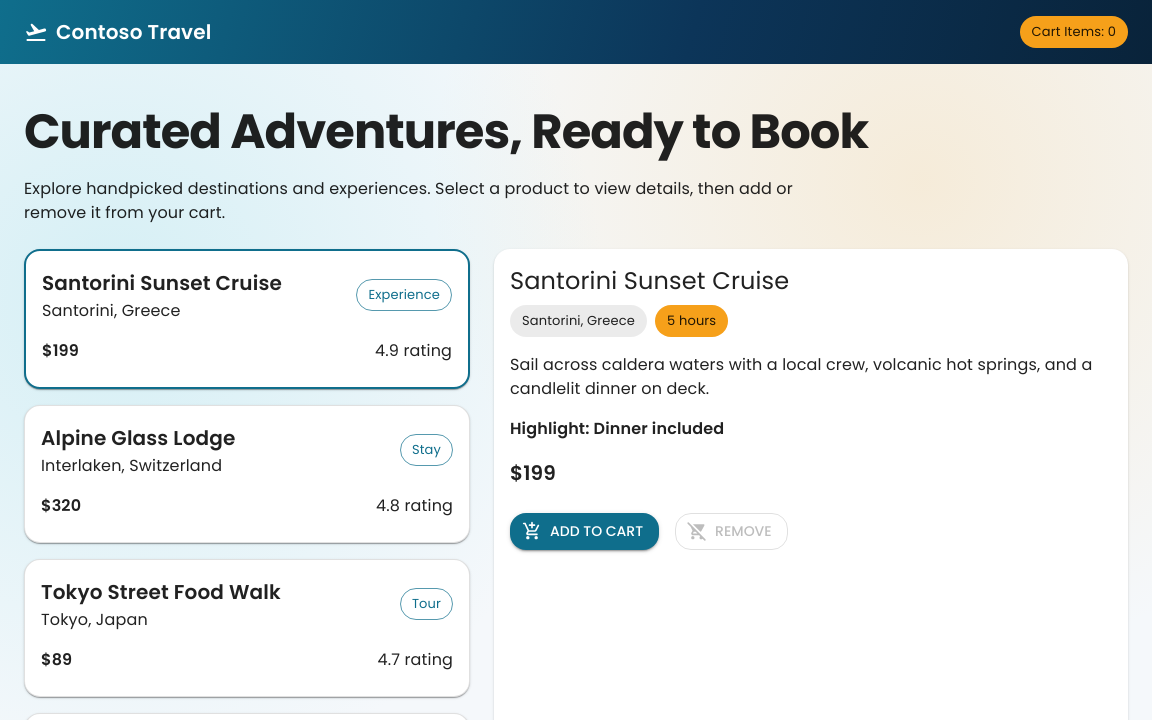
Contoso Travel app › adds selected items to the cart and updates total
The image size is (1152, 720).
Click the button "Add to Cart" at (585, 531), box [510,513,659,550]
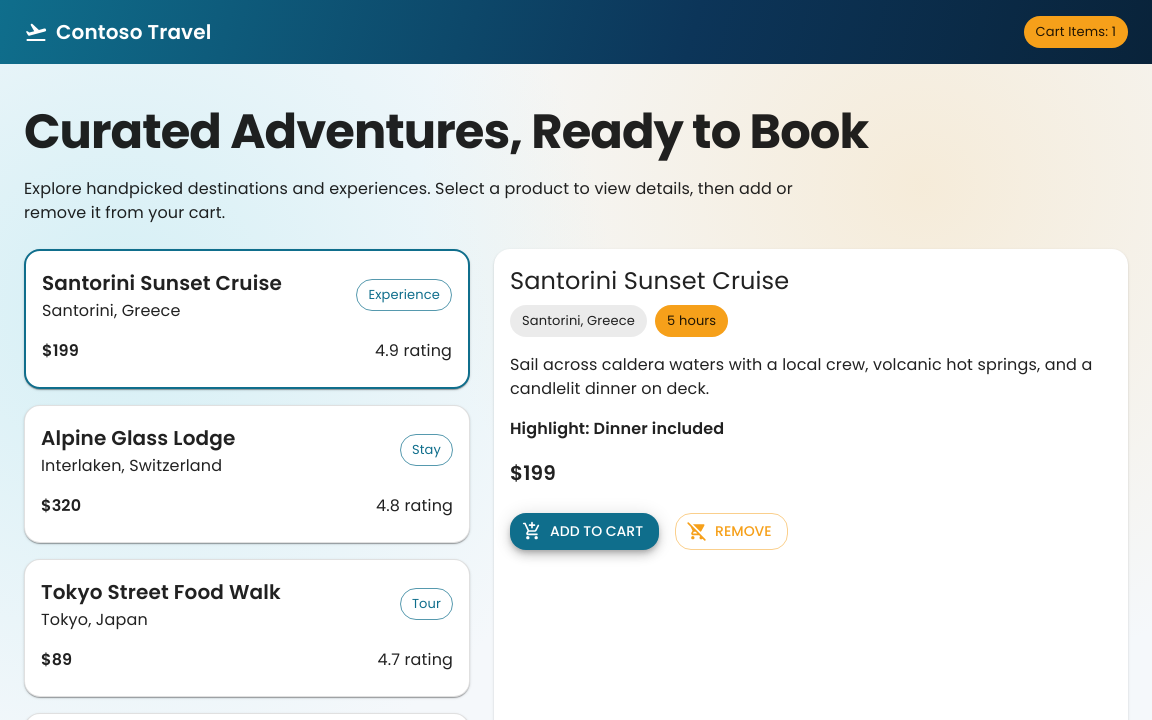
Check: the text "Cart Items: 1" is shown, box [1036,22,1116,41]
Click the heading "Tokyo Street Food Walk" at (161, 592), box [41,576,281,608]
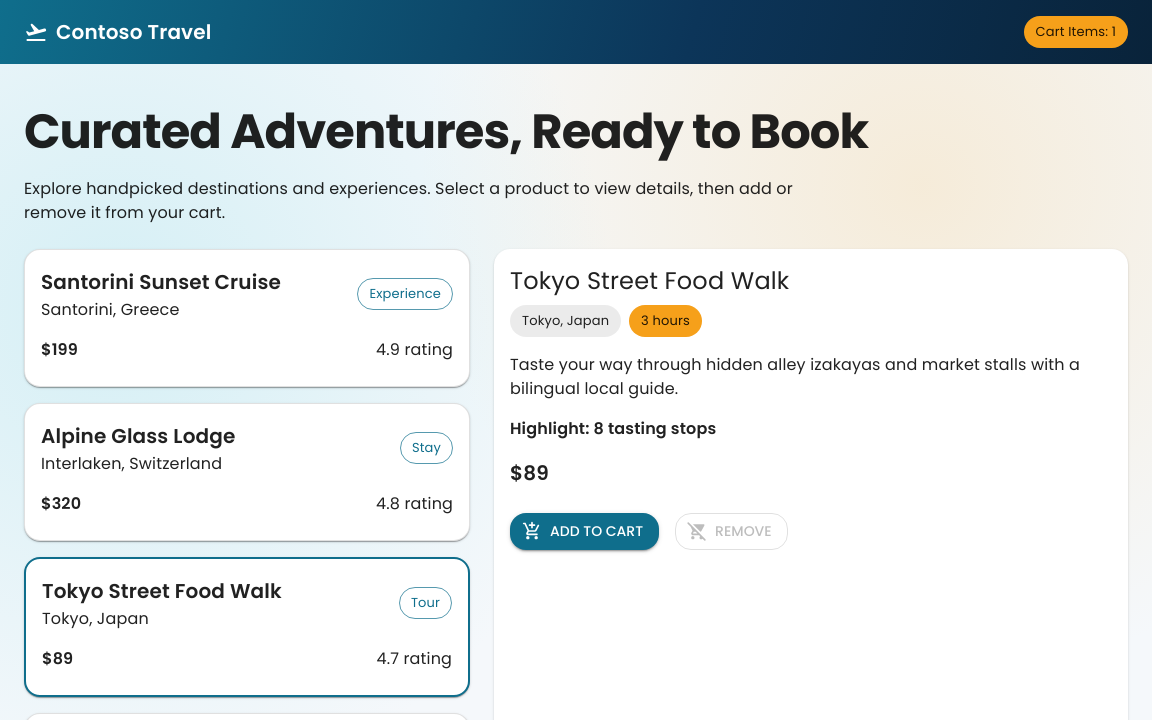
Click the button "Add to Cart" at (585, 531), box [510,513,659,550]
(page scrolled)
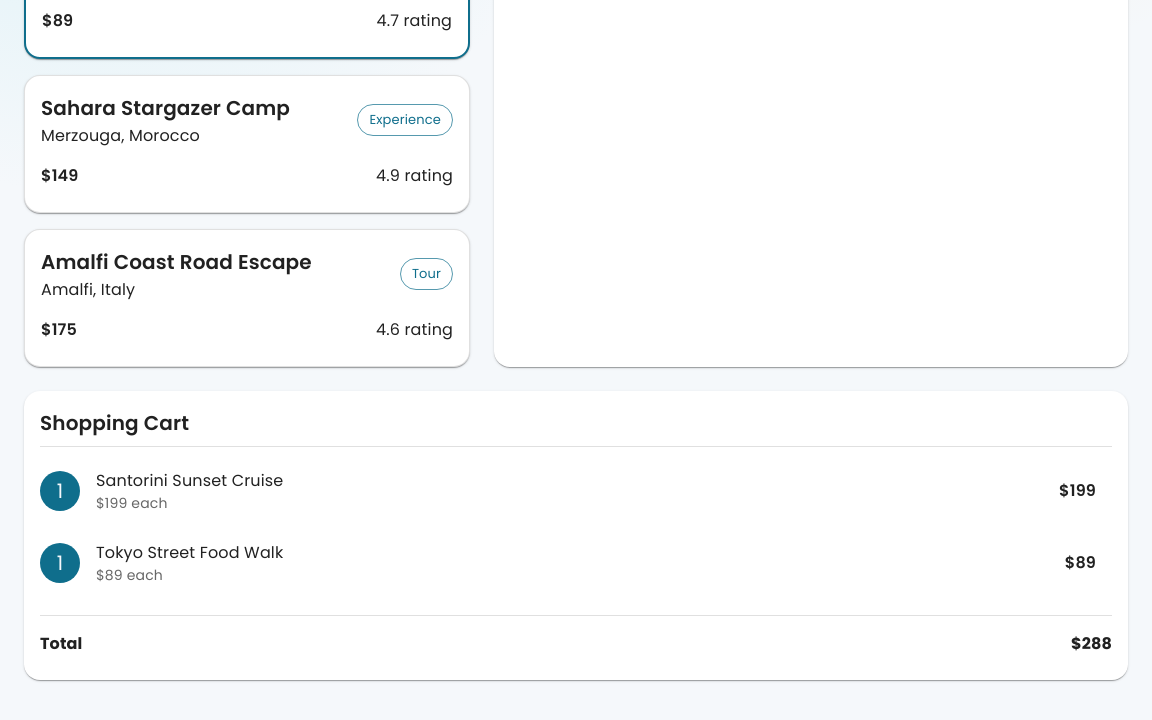
Check: the text "$288" is shown, box [1071,632,1112,656]
